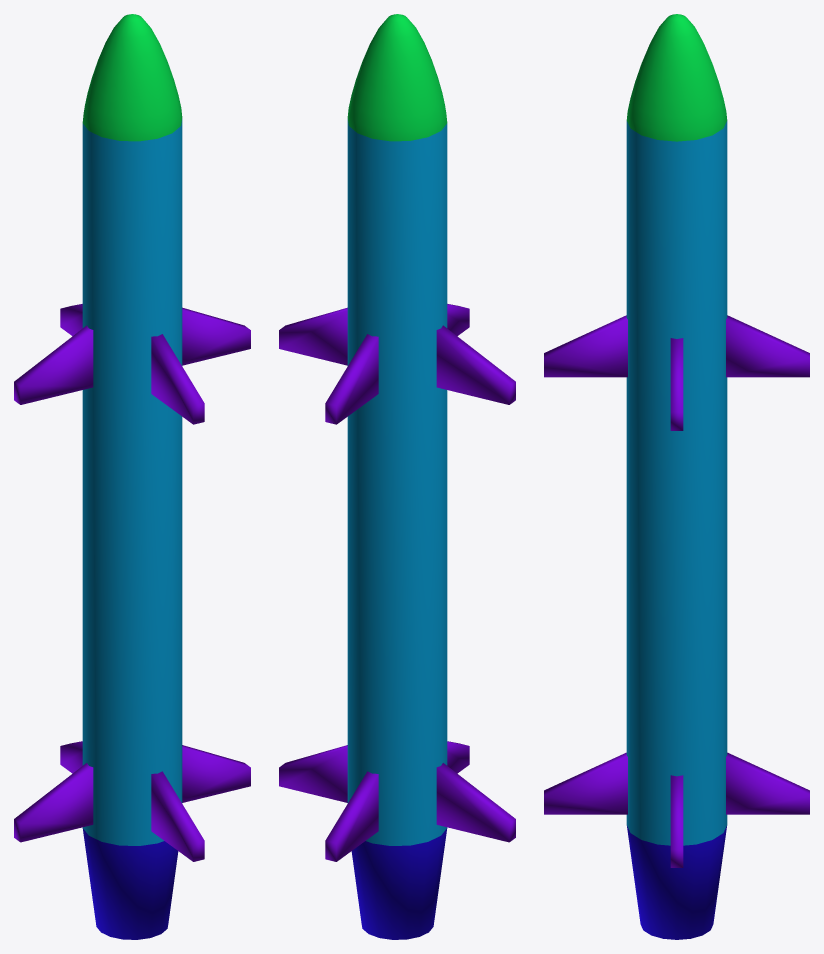
The model's file is Missile.fbx.
3 renders of one model, left to right at view 1: azimuth 30°, elevation 25°; view 2: azimuth 150°, elevation 25°; view 3: azimuth 270°, elevation 25°, orthographic.
Visible parts, largest first — view 1: Missile_LP; view 2: Missile_LP; view 3: Missile_LP.
Part boxes in pixels (x1,y1,x2,y2): Missile_LP: [14, 14, 250, 939]; Missile_LP: [279, 14, 515, 939]; Missile_LP: [544, 14, 809, 939].
Bounding box in the file's own units: 0.3968 × 1.5 × 0.3968.
